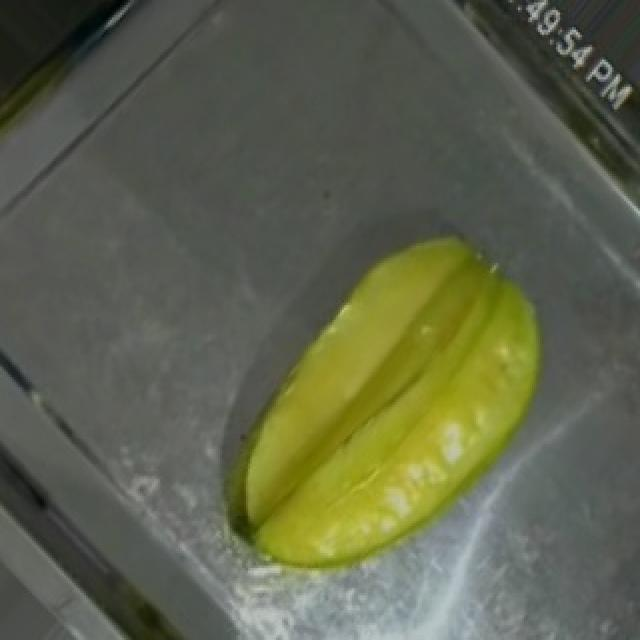fruit: (220, 171, 614, 593), (452, 0, 640, 131)
